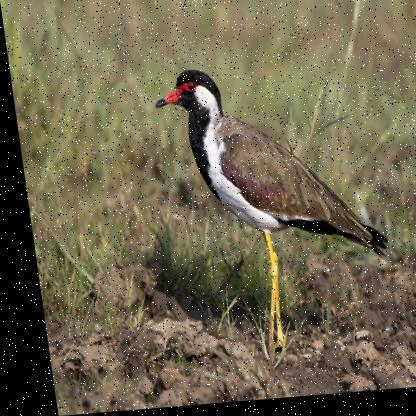Burung: (147, 61, 390, 354)
